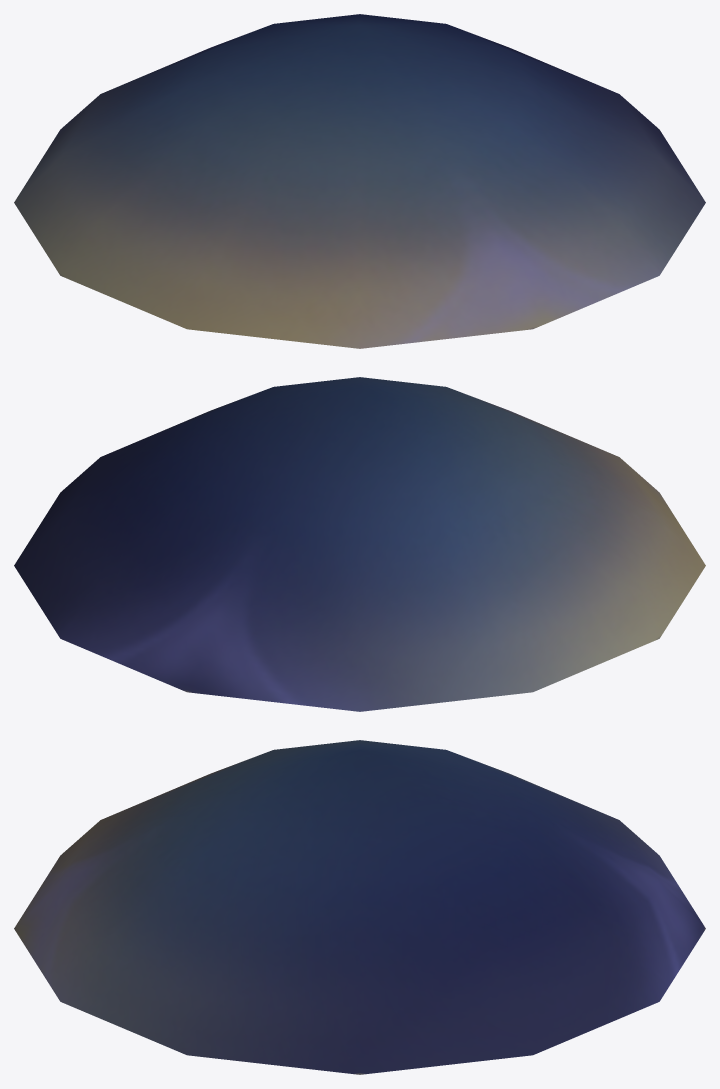
The model's file is Sidewinder.obj.
The picture shows the model from 3 angles, top to bottom: view 1: azimuth 30°, elevation 25°; view 2: azimuth 150°, elevation 25°; view 3: azimuth 270°, elevation 25°; orthographic projection.
Parts seen in each view (by area): view 1: _00_sky; view 2: _00_sky; view 3: _00_sky.
Boxes of the visible parts, bbox=[...] form: _00_sky: bbox=[14, 14, 705, 348]; _00_sky: bbox=[14, 377, 705, 711]; _00_sky: bbox=[14, 740, 705, 1074].
Size of the model in its own units: 1.11e+07 by 3140842 by 1.11e+07.
